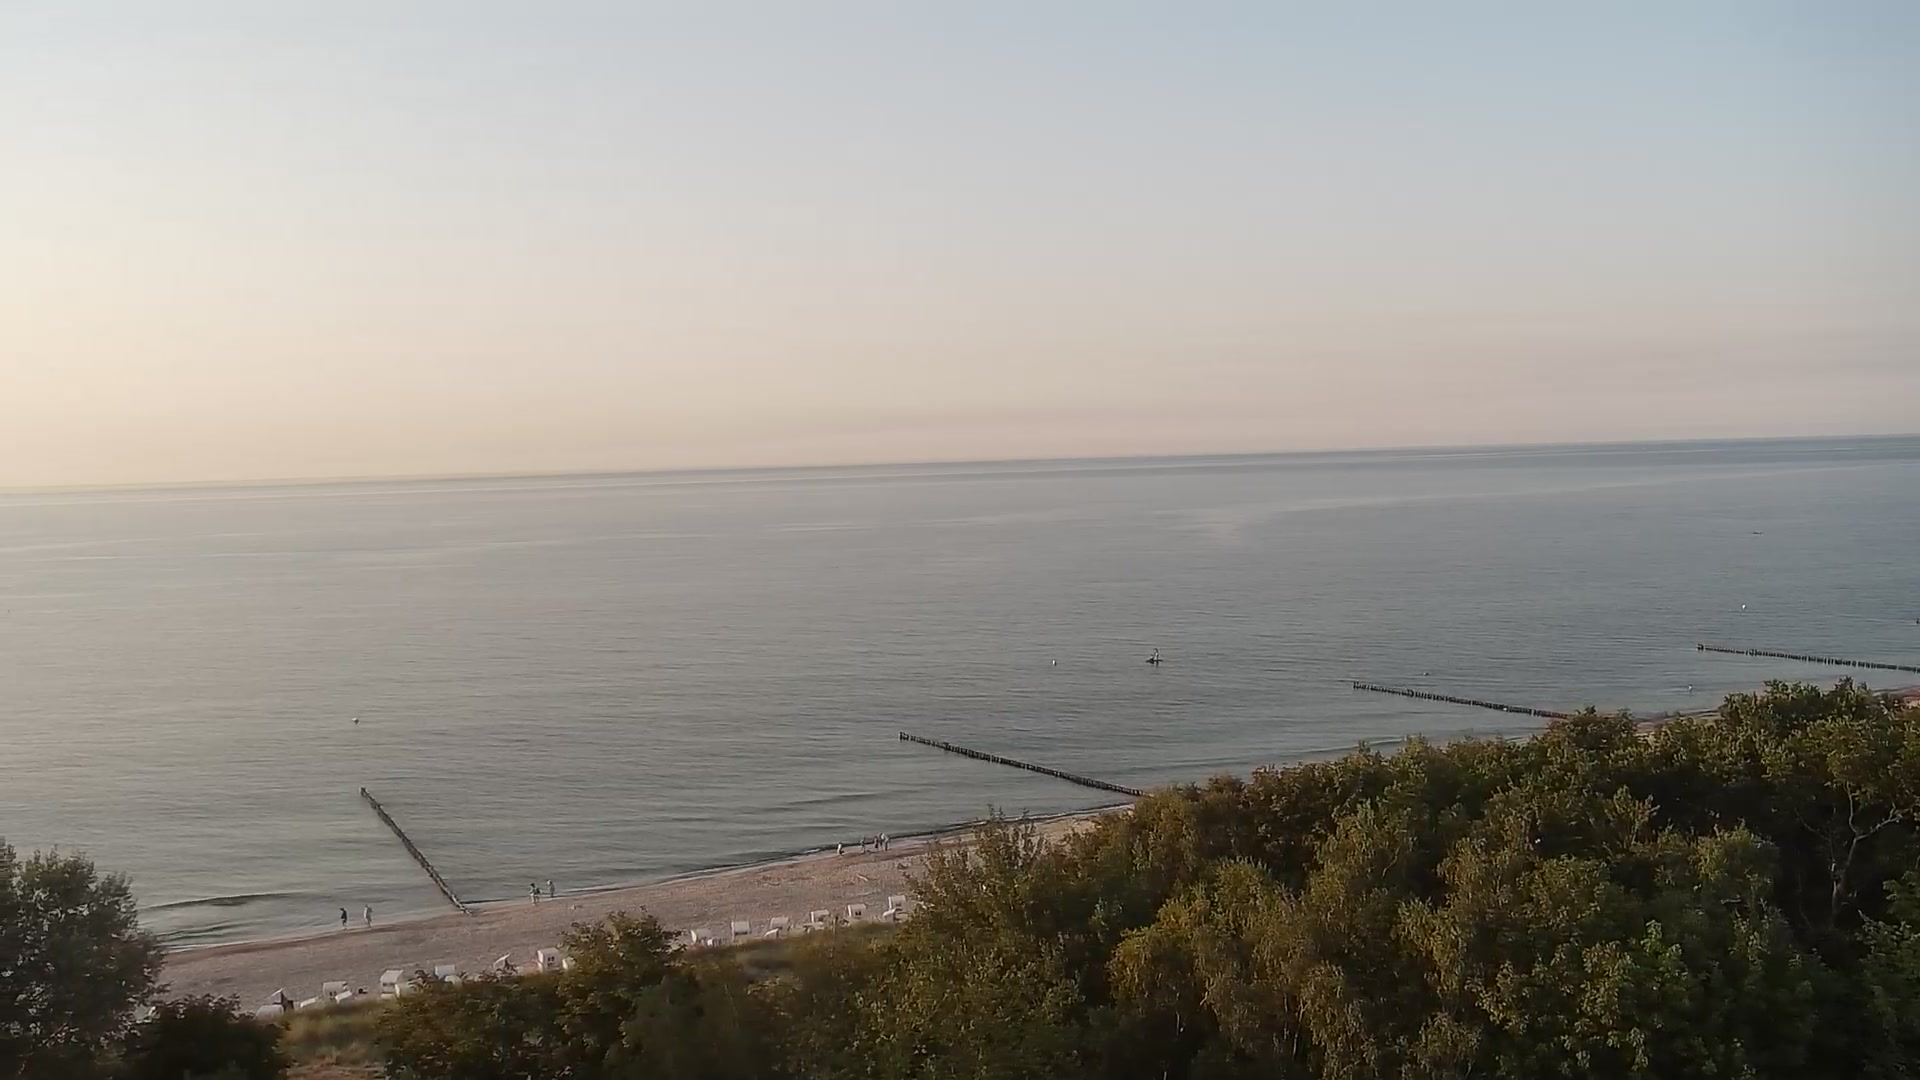human: (527, 882, 541, 906), (339, 906, 349, 928), (362, 903, 373, 926), (544, 879, 555, 897), (835, 840, 845, 856), (858, 835, 867, 852), (882, 833, 890, 851), (877, 830, 884, 848), (873, 835, 878, 848)
sea: (1146, 646, 1164, 664)
